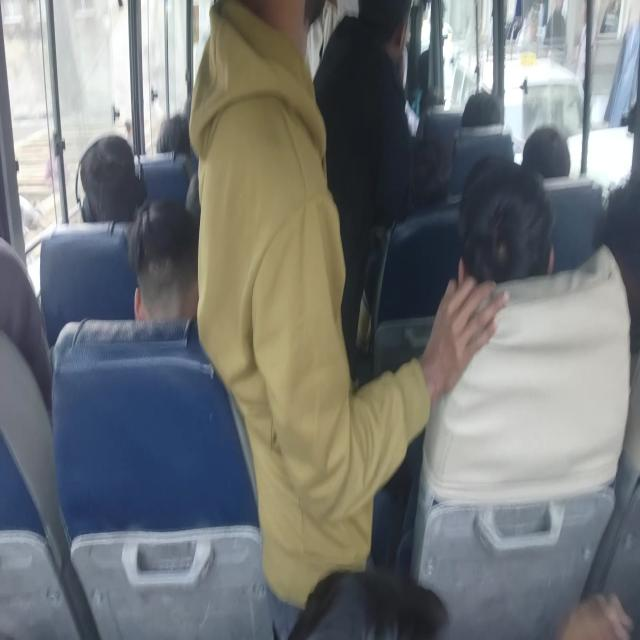person: (188, 0, 510, 609), (311, 0, 420, 382), (457, 154, 555, 286), (127, 195, 200, 321), (76, 133, 146, 223), (520, 124, 570, 180)
